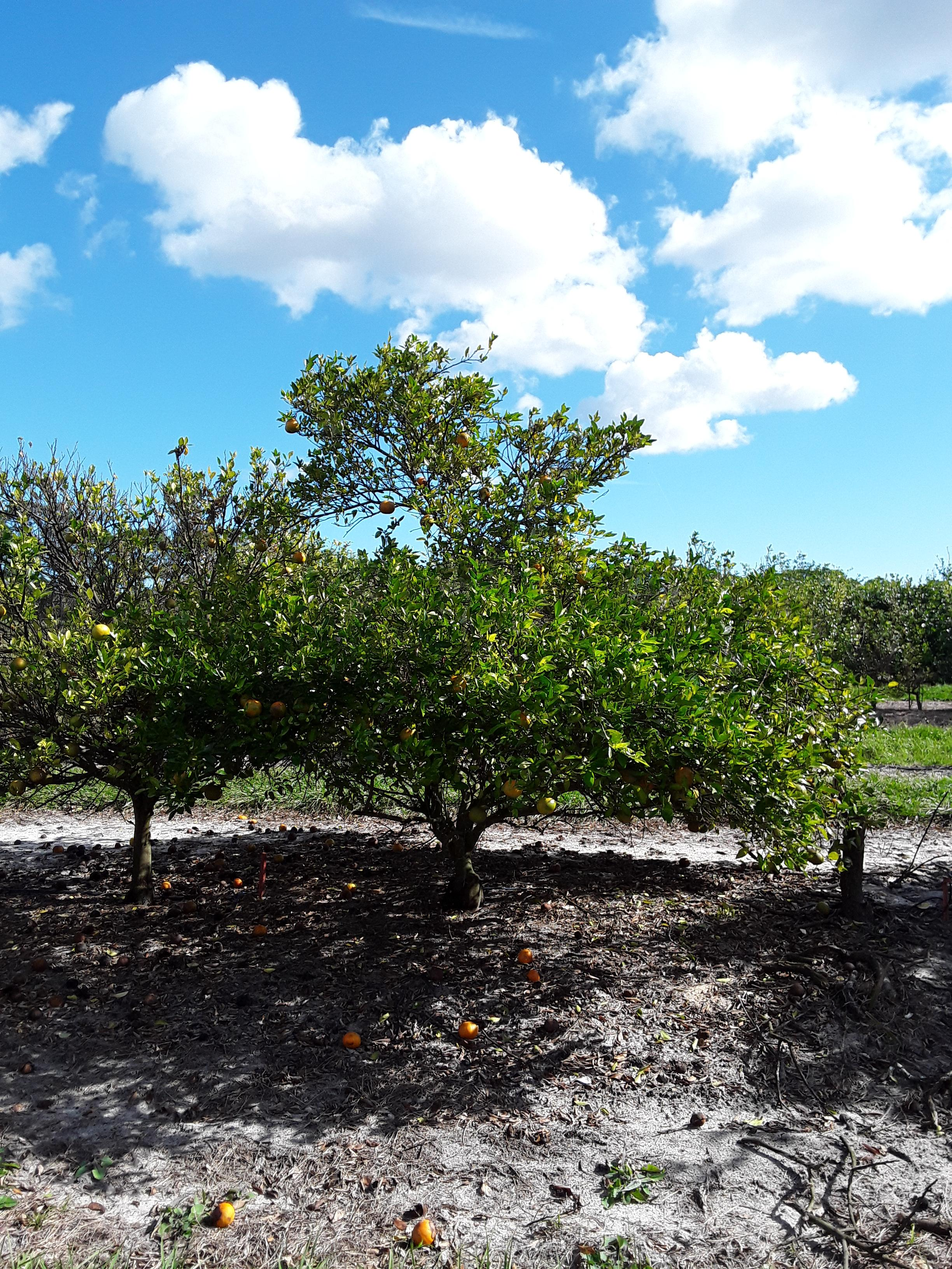fruit_on_ground: (668, 779, 700, 812), (671, 763, 696, 788), (462, 880, 485, 906), (240, 695, 264, 719), (500, 774, 524, 798), (447, 672, 470, 695), (536, 794, 560, 816), (397, 723, 420, 745), (466, 802, 489, 824), (512, 708, 534, 730), (168, 767, 191, 788), (351, 711, 375, 731), (6, 776, 27, 797), (618, 765, 640, 785), (614, 804, 636, 824), (268, 698, 288, 720), (637, 775, 657, 796), (202, 782, 224, 801), (90, 621, 110, 641), (282, 416, 302, 435), (453, 429, 472, 448), (27, 767, 47, 785), (377, 497, 397, 515), (547, 536, 566, 554), (574, 568, 592, 586), (63, 740, 81, 758), (10, 654, 28, 672), (293, 697, 312, 714), (807, 849, 825, 866), (62, 528, 79, 545), (290, 548, 307, 564), (418, 513, 435, 529), (477, 486, 493, 502), (252, 537, 269, 552), (163, 594, 178, 610), (686, 820, 702, 833), (413, 475, 428, 488), (205, 535, 218, 549), (0, 601, 9, 619), (696, 822, 709, 834), (148, 564, 160, 574)
fruit_on_tree: (410, 1217, 439, 1248), (208, 1198, 236, 1229), (457, 1018, 480, 1043), (687, 1108, 708, 1129), (340, 1030, 362, 1050), (539, 1017, 562, 1034), (516, 946, 536, 965), (814, 898, 832, 916), (787, 981, 806, 998), (30, 955, 49, 972), (427, 966, 447, 982), (524, 967, 542, 984), (47, 992, 64, 1008), (180, 898, 197, 913), (70, 931, 86, 945), (390, 839, 406, 853), (252, 922, 268, 936), (143, 992, 157, 1006), (157, 947, 171, 960), (20, 1061, 34, 1074), (677, 856, 692, 868), (116, 954, 131, 966), (160, 878, 173, 891), (231, 875, 244, 888), (344, 881, 358, 893), (51, 843, 66, 854), (548, 861, 562, 872), (539, 902, 553, 913), (365, 836, 377, 848), (323, 837, 336, 848), (272, 851, 284, 862), (257, 842, 270, 852), (203, 863, 216, 873), (286, 831, 298, 841), (166, 844, 178, 854), (213, 858, 226, 867), (66, 843, 78, 852), (214, 851, 226, 860), (245, 843, 257, 852), (79, 853, 91, 862), (235, 813, 248, 821), (277, 823, 288, 832), (176, 851, 186, 860), (196, 860, 205, 870), (534, 839, 544, 848), (77, 843, 86, 853), (247, 818, 259, 825), (308, 825, 318, 833), (290, 826, 298, 832), (186, 829, 193, 835)
